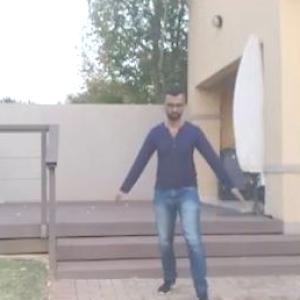land: (114, 71, 258, 299)
